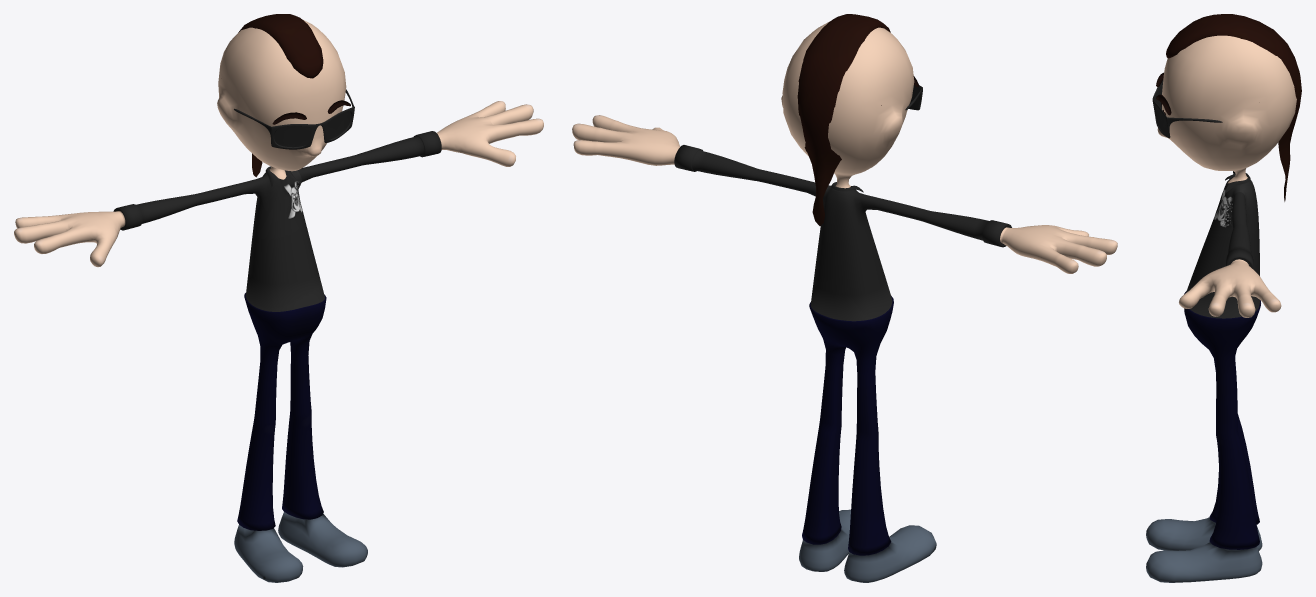
Rendered from character.fbx.
The picture shows the model from 3 angles, left to right: view 1: azimuth 30°, elevation 25°; view 2: azimuth 150°, elevation 25°; view 3: azimuth 270°, elevation 25°; orthographic projection. The views are drawn at different scales.
Parts seen in each view (by area): view 1: xok_Low; view 2: xok_Low; view 3: xok_Low.
Part boxes in pixels (box(x1,y1,x2,y2)): xok_Low: box(14, 14, 543, 582); xok_Low: box(572, 14, 1117, 582); xok_Low: box(1146, 14, 1301, 582).
Size of the model in its own units: 154 by 150 by 39.34.
